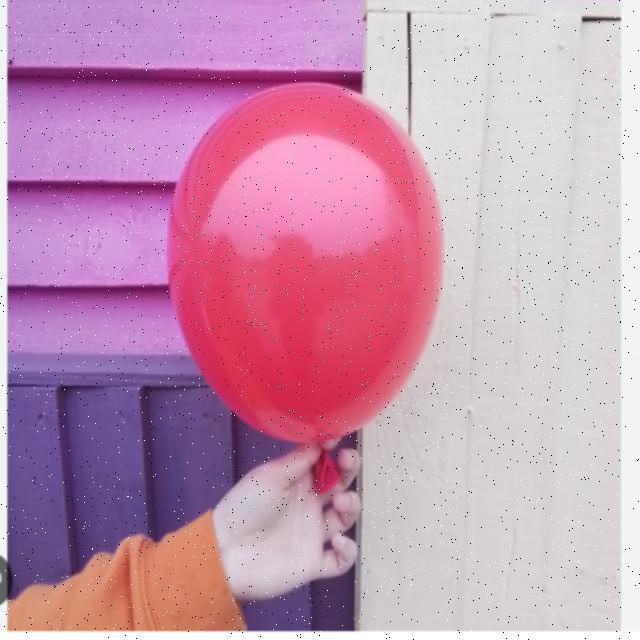red: (165, 79, 444, 490)
